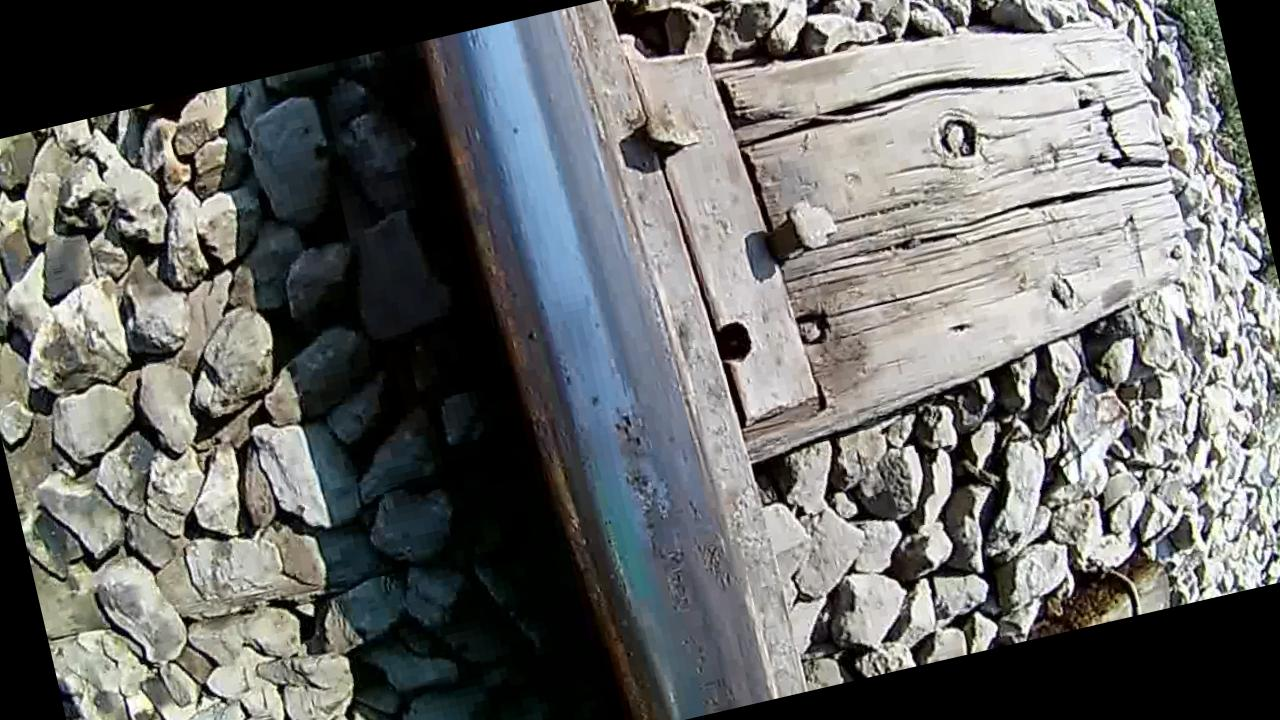crack: (425, 16, 771, 720)
